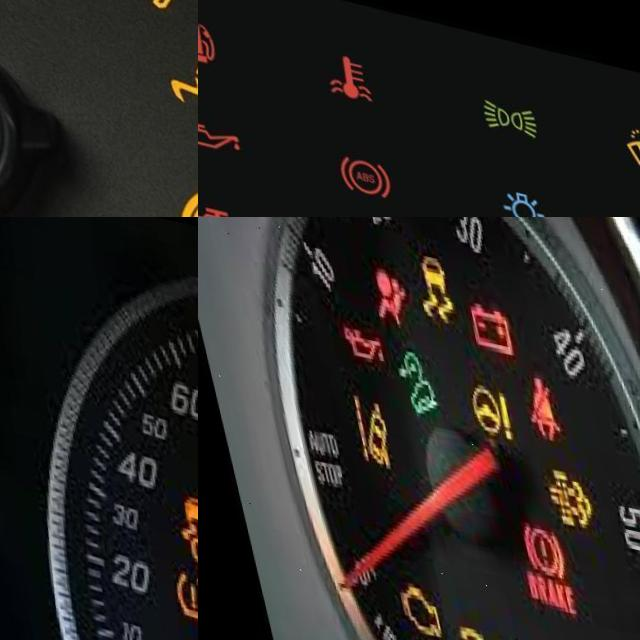Electronic Power Steering Warning: (455, 370, 506, 428)
High Engine Coolant Temperature: (316, 35, 374, 104)
Seat Belt: (514, 358, 551, 423)
